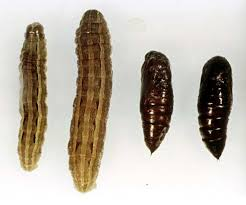larva: (65, 4, 116, 196), (8, 14, 54, 181)
pupa: (129, 25, 187, 159), (196, 41, 241, 163)
